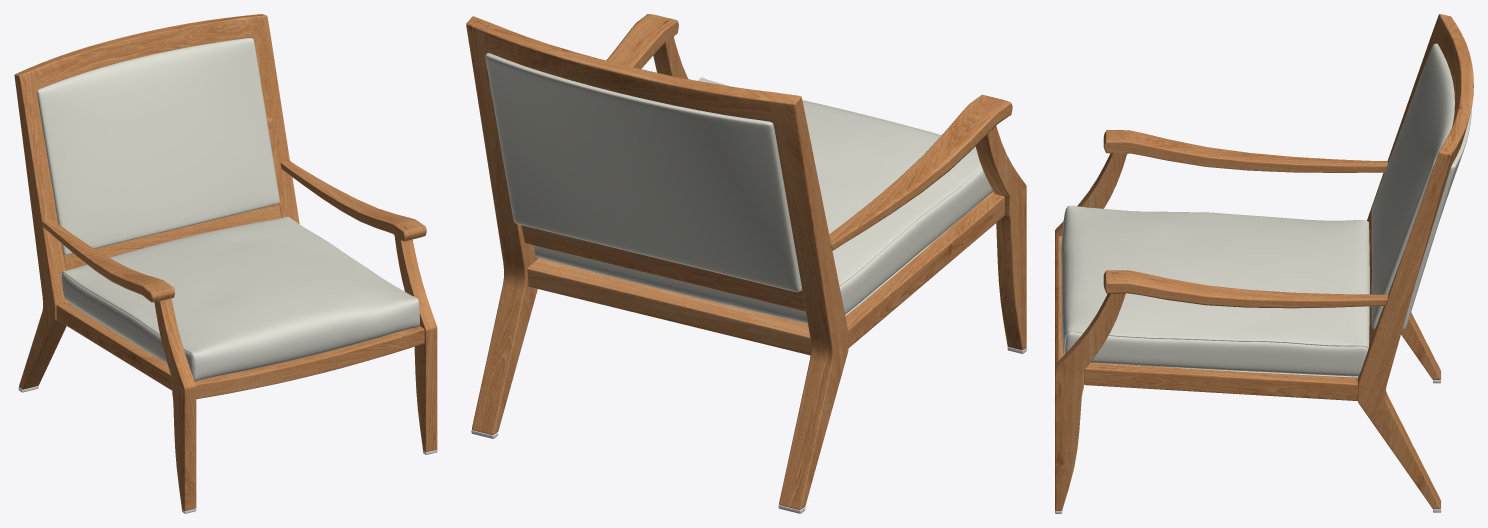
Rendered from wood_chair_test1.glb.
3 views of the same model, side by side, from view 1: azimuth 30°, elevation 25°; view 2: azimuth 150°, elevation 25°; view 3: azimuth 270°, elevation 25° (orthographic). The views are drawn at different scales.
Visible parts, largest first — view 1: Porada_Malindi:Box03, Porada_Malindi:objPlane04; view 2: Porada_Malindi:Box03, Porada_Malindi:objPlane04; view 3: Porada_Malindi:Box03, Porada_Malindi:objPlane04.
Boxes of the visible parts, x1,y1,x2,y2 form: Porada_Malindi:Box03: (37, 38, 419, 381); Porada_Malindi:objPlane04: (14, 14, 437, 511); Porada_Malindi:Box03: (485, 53, 993, 323); Porada_Malindi:objPlane04: (466, 14, 1026, 510); Porada_Malindi:Box03: (1061, 43, 1471, 377); Porada_Malindi:objPlane04: (1055, 14, 1473, 510).
Bounding box in the file's own units: 26.89 × 29.49 × 31.02.
Materials: 3 (1 with a texture image).
